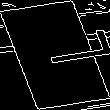L_W: (12, 34, 98, 76)
